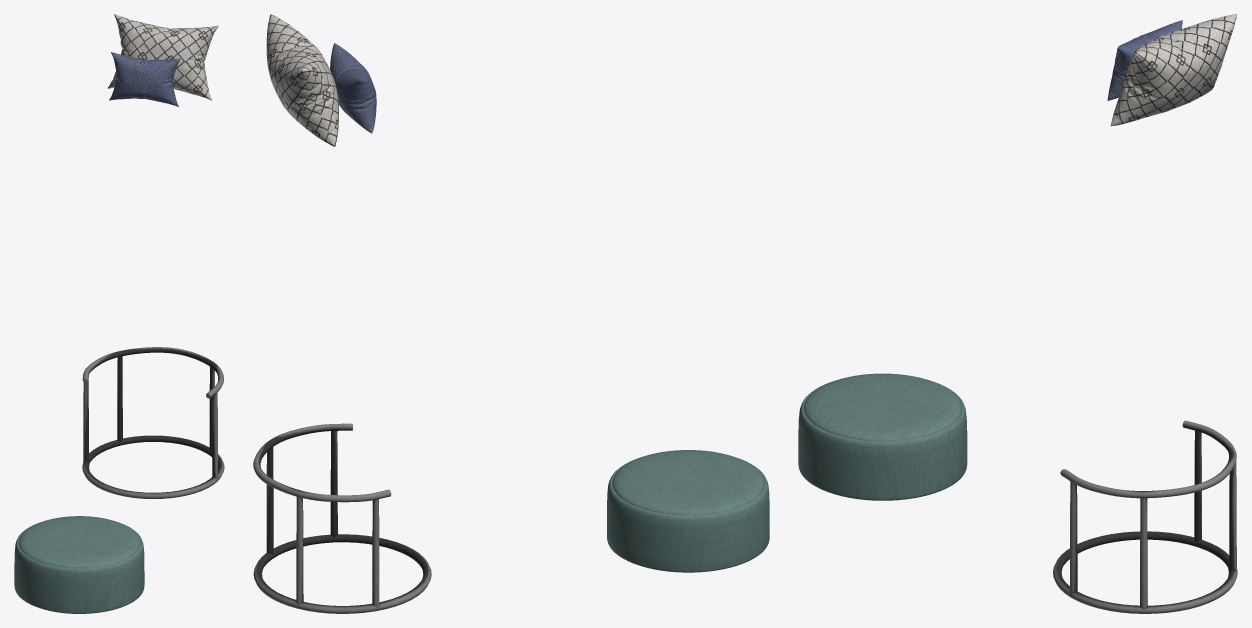
Rendered from sofa.glb.
3 views of the same model, side by side, from view 1: azimuth 30°, elevation 25°; view 2: azimuth 150°, elevation 25°; view 3: azimuth 270°, elevation 25° (orthographic). The views are drawn at different scales.
Parts seen in each view (by area): view 1: Chair, iron, Pillow_01, Pillow_02; view 2: Chair, iron, Pillow_01, Pillow_02; view 3: Chair, iron, Pillow_01, Pillow_02.
Boxes of the visible parts, left/top/right/bottom form: Chair: left=14, top=516, right=144, bottom=613; iron: left=82, top=347, right=224, bottom=498; Pillow_01: left=107, top=14, right=218, bottom=100; Pillow_02: left=109, top=52, right=180, bottom=106; Chair: left=607, top=450, right=769, bottom=572; iron: left=253, top=423, right=431, bottom=613; Pillow_01: left=266, top=14, right=338, bottom=146; Pillow_02: left=330, top=43, right=376, bottom=133; Chair: left=798, top=373, right=967, bottom=500; iron: left=1053, top=420, right=1237, bottom=613; Pillow_01: left=1110, top=14, right=1236, bottom=126; Pillow_02: left=1107, top=20, right=1182, bottom=100.
Bounding box in the file's own units: 2.85 × 4.02 × 2.85.
Materials: 3 (3 with a texture image).
